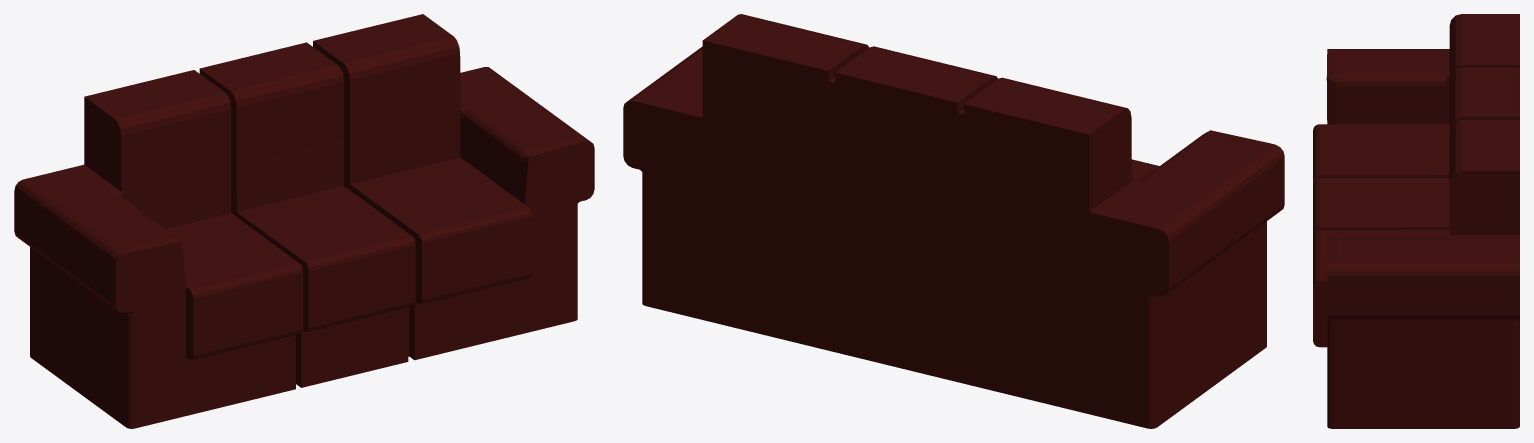
The model's file is Couch.fbx.
3 views of the same model, side by side, from view 1: azimuth 30°, elevation 25°; view 2: azimuth 150°, elevation 25°; view 3: azimuth 270°, elevation 25° (orthographic). The views are drawn at different scales.
Visible parts, largest first — view 1: Cube.001; view 2: Cube.001; view 3: Cube.001.
Boxes of the visible parts, <box> form: Cube.001: <box>14,14,594,428</box>; Cube.001: <box>623,14,1284,428</box>; Cube.001: <box>1313,14,1519,428</box>.
Bounding box in the file's own units: 847 × 414 × 334.
Materials: 1 (1 with a texture image).
